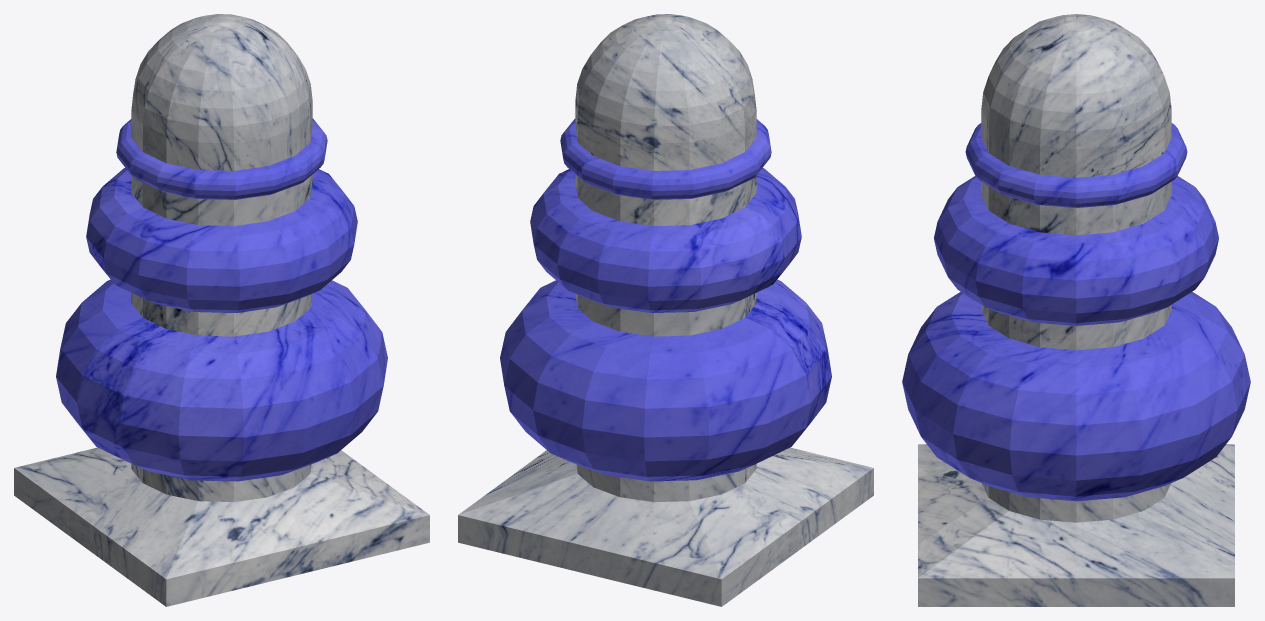
The model's file is nexus.fbx.
3 renders of one model, left to right at view 1: azimuth 30°, elevation 25°; view 2: azimuth 150°, elevation 25°; view 3: azimuth 270°, elevation 25°, orthographic. The views are drawn at different scales.
Parts seen in each view (by area): view 1: Plane; view 2: Plane; view 3: Plane.
Part boxes in pixels (<box>): Plane: <box>14,14,429,606</box>; Plane: <box>458,14,873,606</box>; Plane: <box>902,14,1250,606</box>.
Size of the model in its own units: 220 by 360 by 220.
